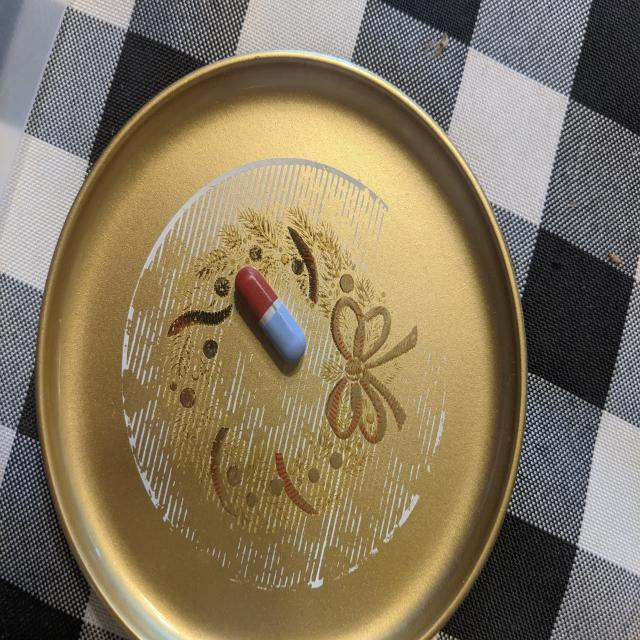non-organic waste: (234, 264, 307, 365)
